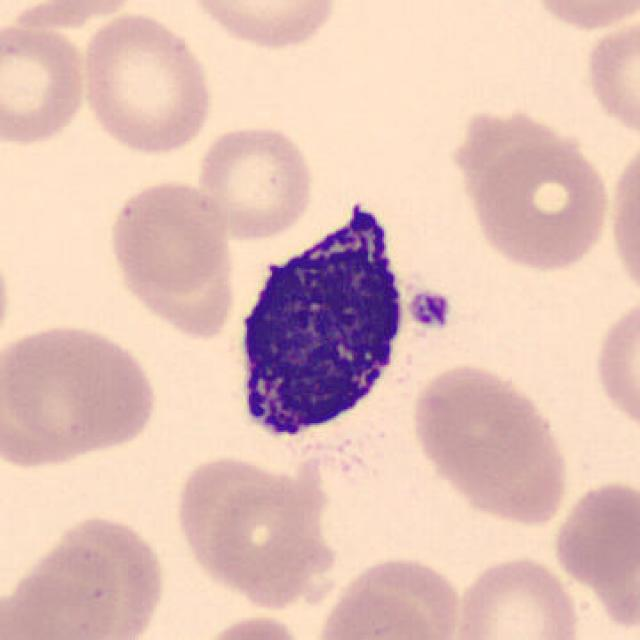Basophil: (226, 190, 414, 464)
Platelets: (406, 288, 454, 332)
RBC: (171, 458, 336, 610), (0, 319, 162, 469), (78, 8, 217, 158), (464, 136, 613, 275), (407, 360, 555, 490), (103, 174, 235, 300), (44, 511, 172, 640), (192, 120, 318, 243), (313, 553, 466, 640), (2, 537, 128, 640), (448, 552, 585, 640), (0, 21, 91, 150), (550, 476, 638, 589), (182, 0, 342, 53), (580, 11, 638, 142), (590, 289, 638, 441), (560, 2, 640, 88), (604, 134, 640, 303), (2, 0, 144, 30), (522, 0, 640, 33), (194, 610, 309, 640), (0, 236, 16, 360)
